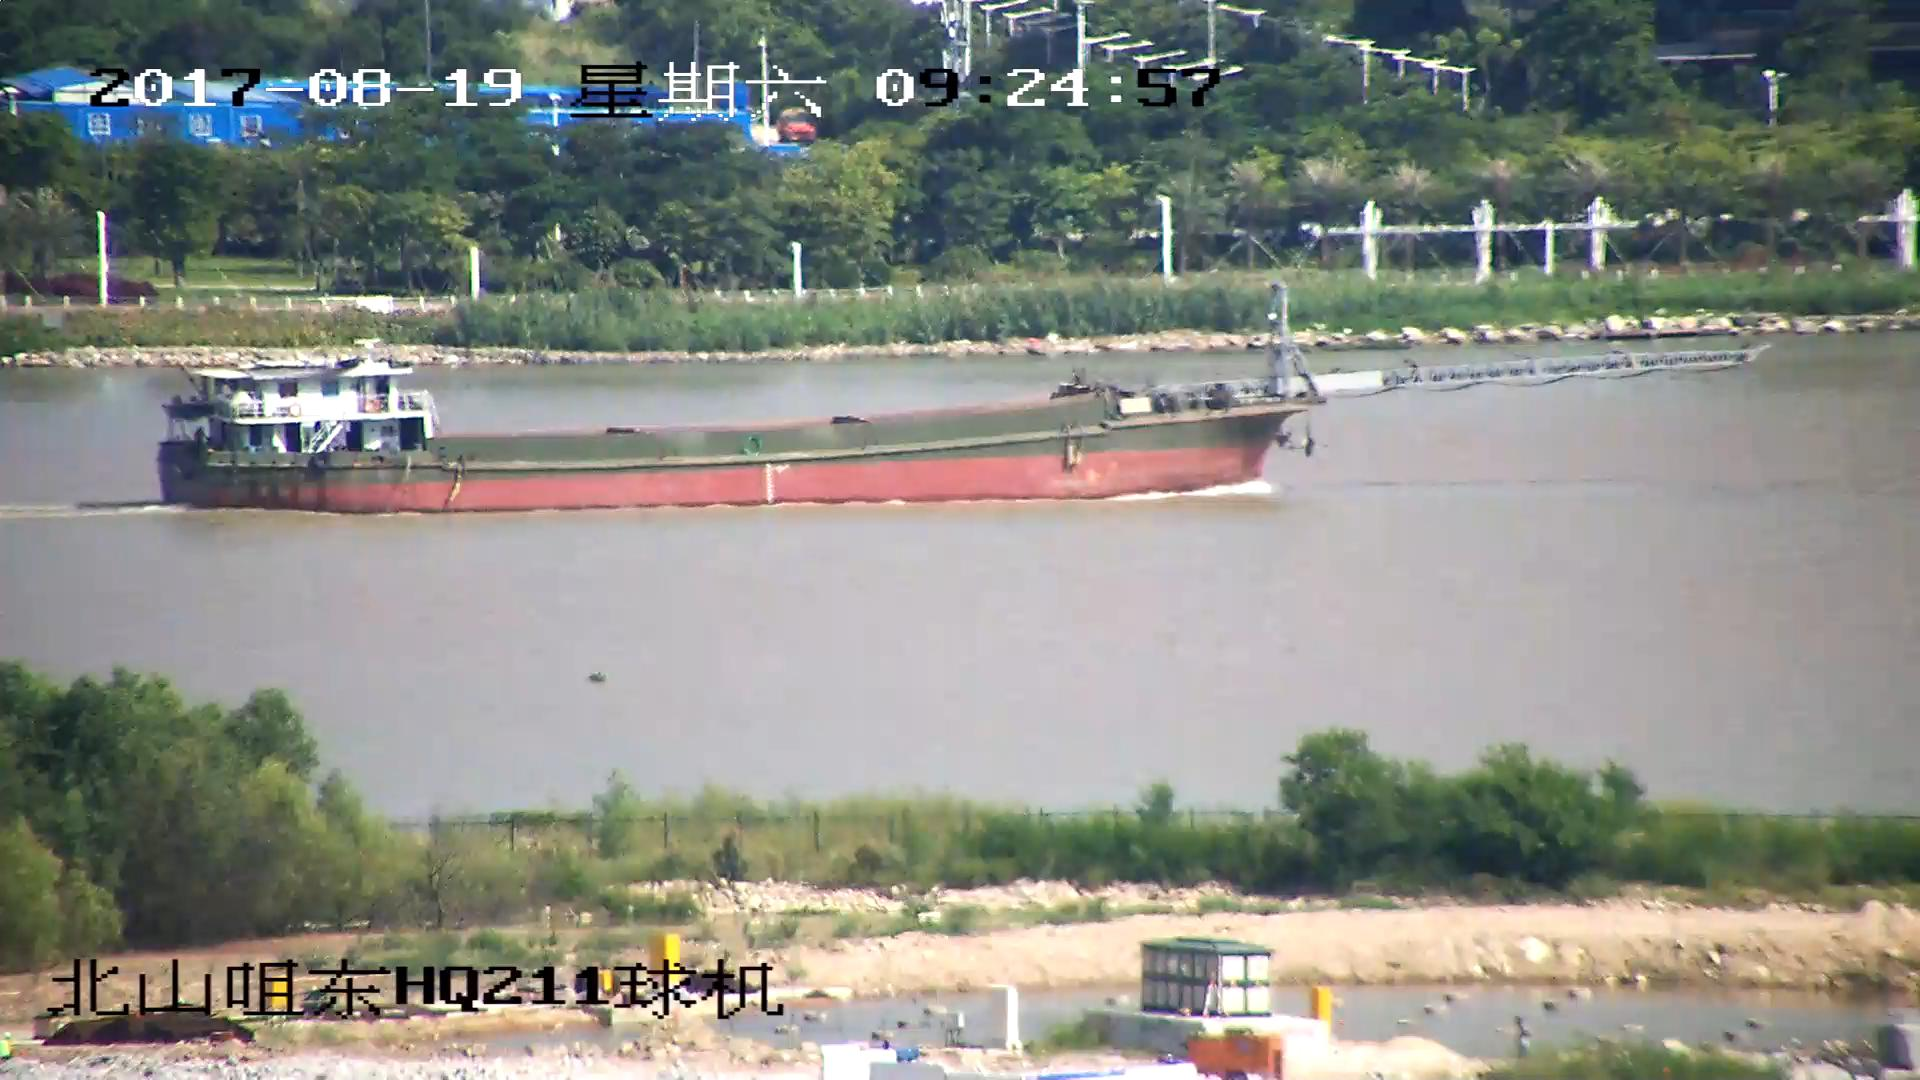bulk cargo carrier: (159, 271, 1754, 519)
